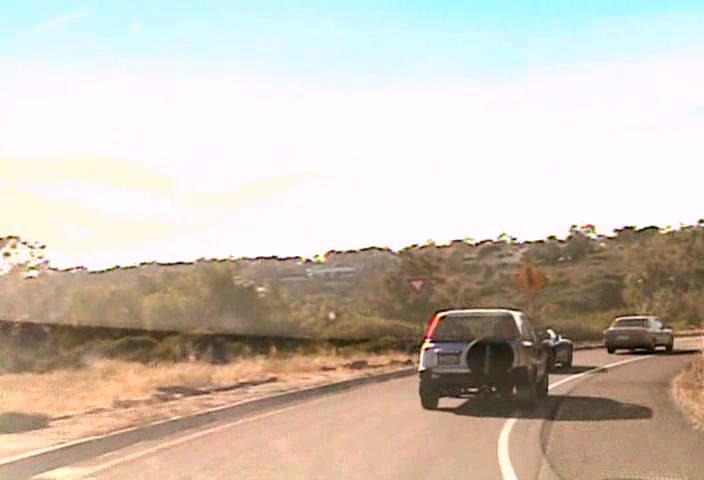yield: (406, 276, 428, 295)
